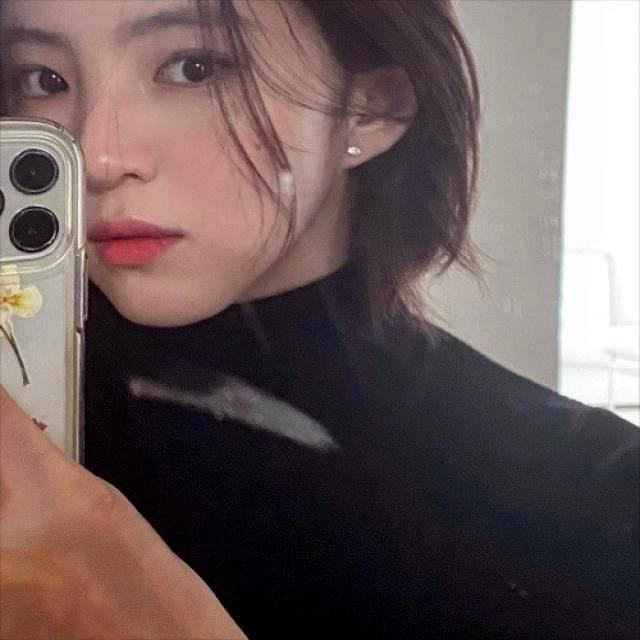lens_back: (5, 139, 72, 198), (6, 204, 65, 263)
